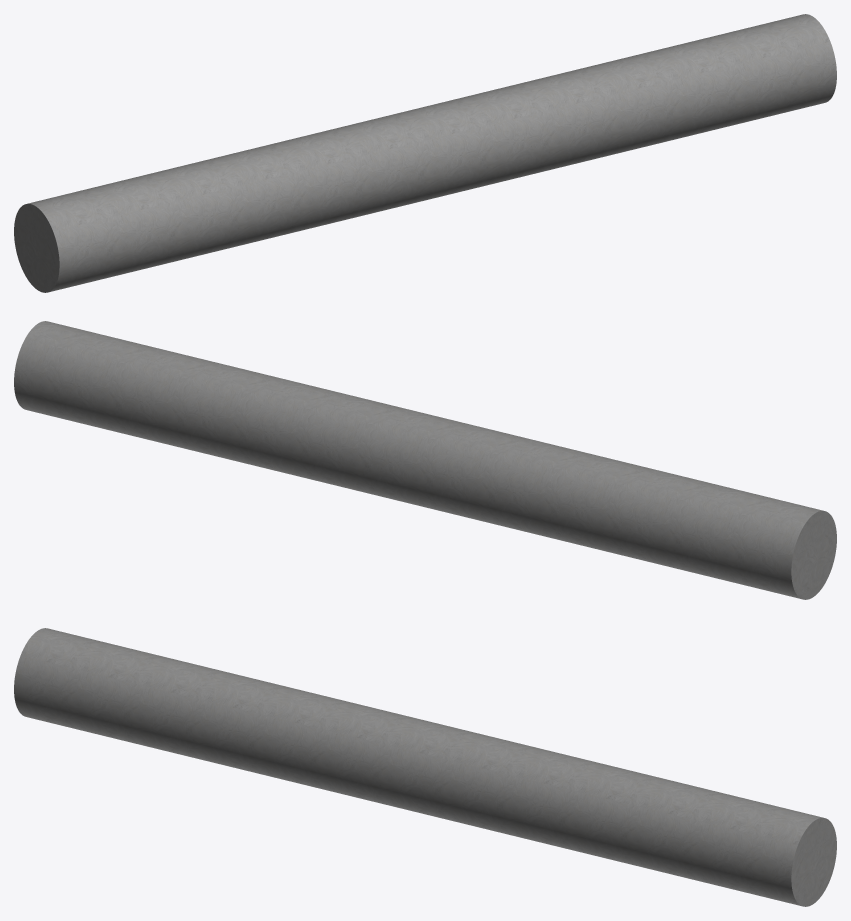
Rendered from tubo_50_recto.glb.
3 views of the same model, one above another, from view 1: azimuth 30°, elevation 25°; view 2: azimuth 150°, elevation 25°; view 3: azimuth 330°, elevation 25° (orthographic).
Visible parts, largest first — view 1: tubo_50_recto; view 2: tubo_50_recto; view 3: tubo_50_recto.
Boxes of the visible parts, <box> form: tubo_50_recto: <box>14,14,836,292</box>; tubo_50_recto: <box>14,321,836,599</box>; tubo_50_recto: <box>14,628,836,906</box>.
Size of the model in its own units: 0.5 by 0.0508 by 0.0508.
Materials: 1 (1 with a texture image).
